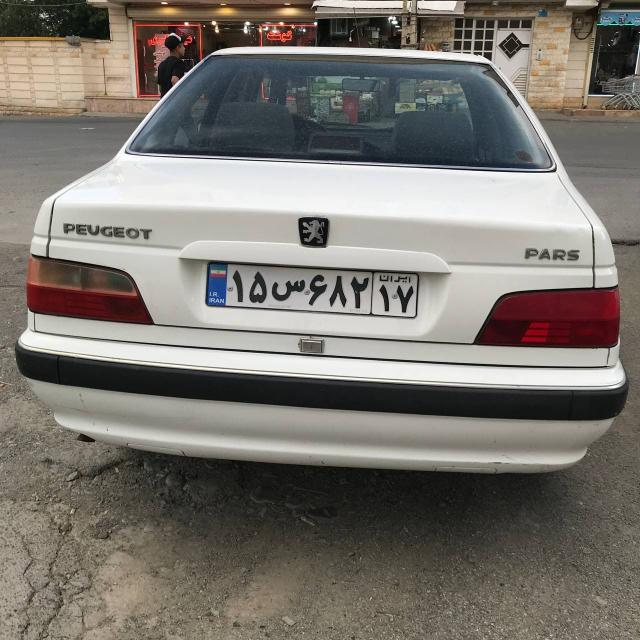Plates: (204, 261, 419, 318)
